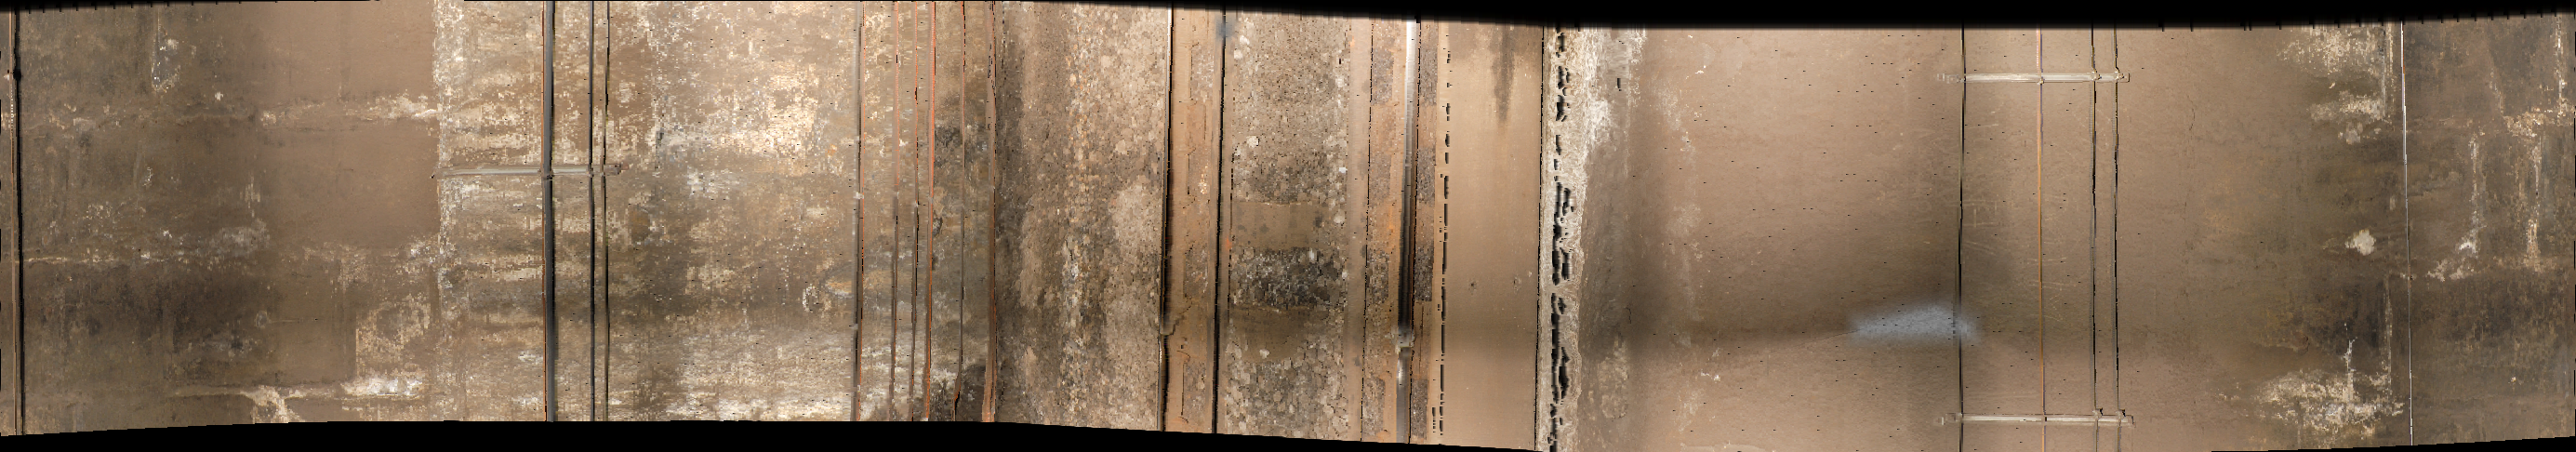pipes: (1955, 23, 2132, 452), (844, 13, 1017, 442), (534, 2, 623, 434)
tracks: (1160, 8, 1551, 452)
